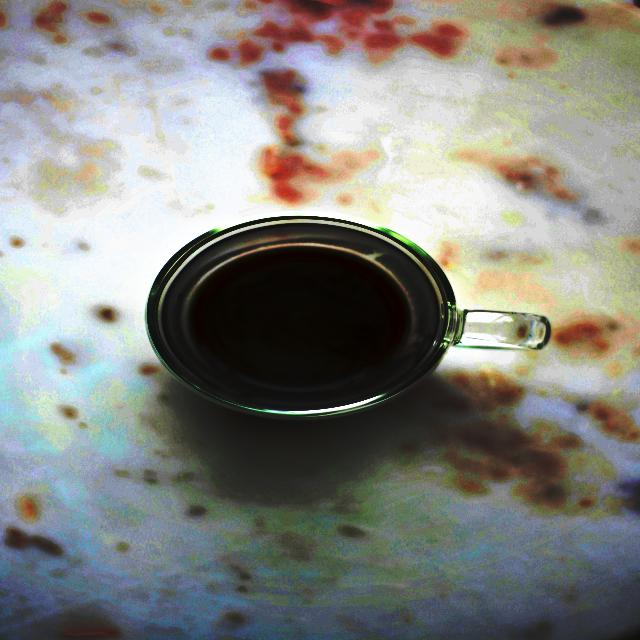drink: (150, 215, 549, 420)
